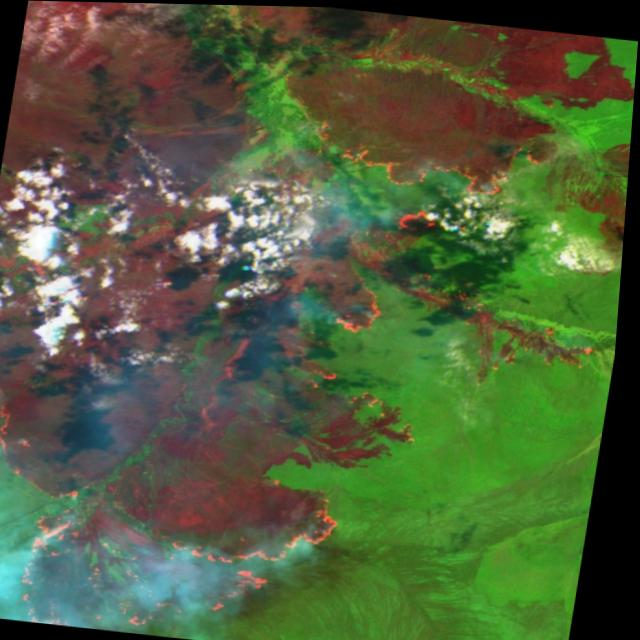fire: (0, 89, 635, 640)
